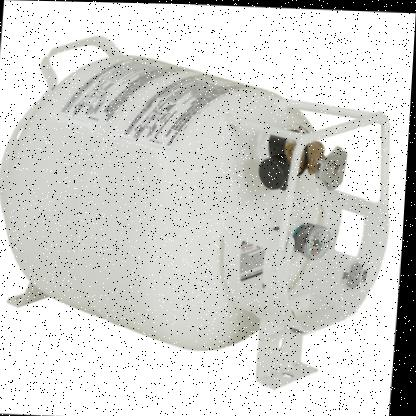gas-tank: (0, 20, 412, 392)
